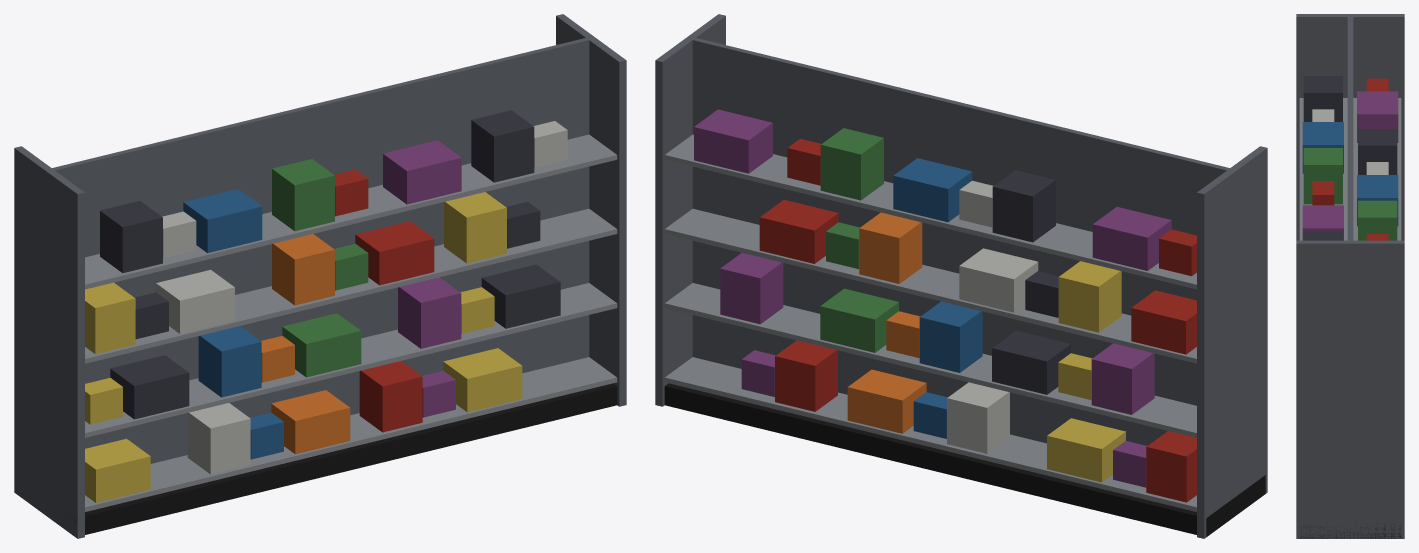
The model's file is shelf_large.glb.
3 renders of one model, left to right at view 1: azimuth 30°, elevation 25°; view 2: azimuth 150°, elevation 25°; view 3: azimuth 270°, elevation 25°, orthographic. The views are drawn at different scales.
Visible parts, largest first — view 1: shelf_large; view 2: shelf_large; view 3: shelf_large.
Boxes of the visible parts, x1=… form: shelf_large: x1=14, y1=14, x2=626, y2=538; shelf_large: x1=655, y1=14, x2=1267, y2=538; shelf_large: x1=1296, y1=14, x2=1404, y2=538.
Bounding box in the file's own units: 3 × 1.8 × 0.6.
